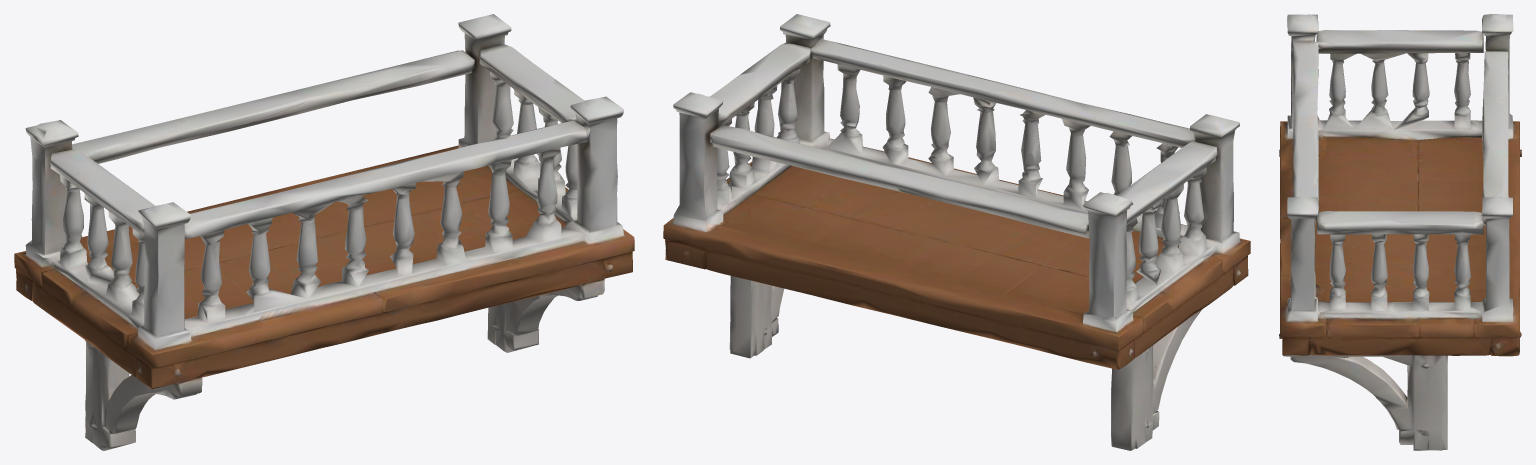
Rendered from kit-balcony.glb.
3 renders of one model, left to right at view 1: azimuth 30°, elevation 25°; view 2: azimuth 150°, elevation 25°; view 3: azimuth 270°, elevation 25°, orthographic. The views are drawn at different scales.
Visible parts, largest first — view 1: balcony; view 2: balcony; view 3: balcony.
Part boxes in pixels (x1,y1,x2,y2): balcony: [14, 14, 634, 450]; balcony: [663, 14, 1250, 450]; balcony: [1279, 14, 1521, 450].
Bounding box in the file's own units: 4 × 2.32 × 2.
1 material, 1 textured.
